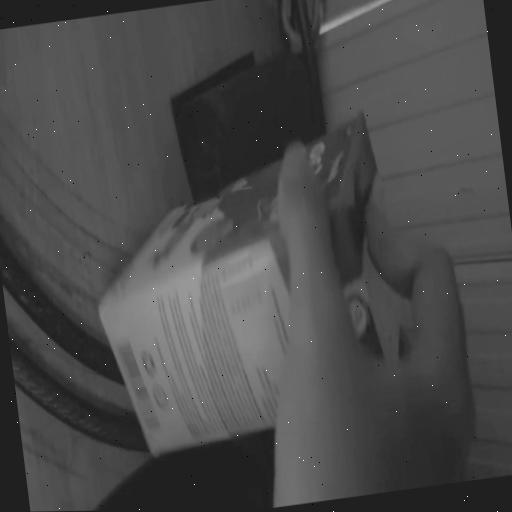ly_giay: (99, 161, 289, 454), (304, 117, 399, 357)
